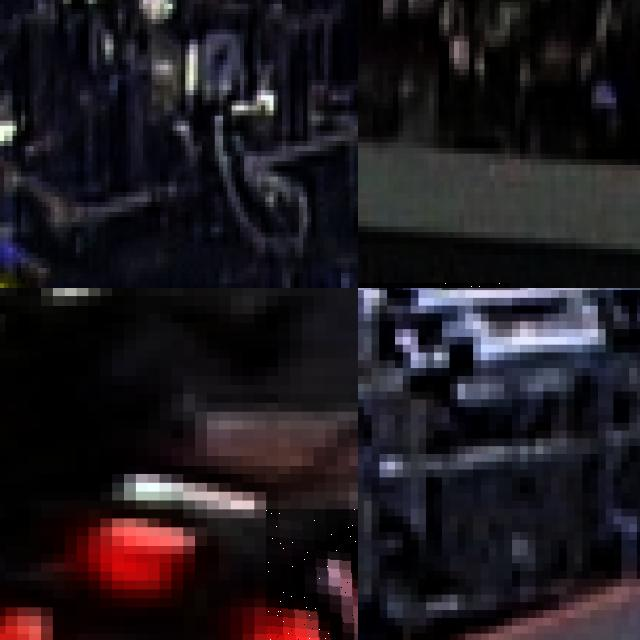R1: (89, 447, 278, 563), (266, 509, 358, 640)
